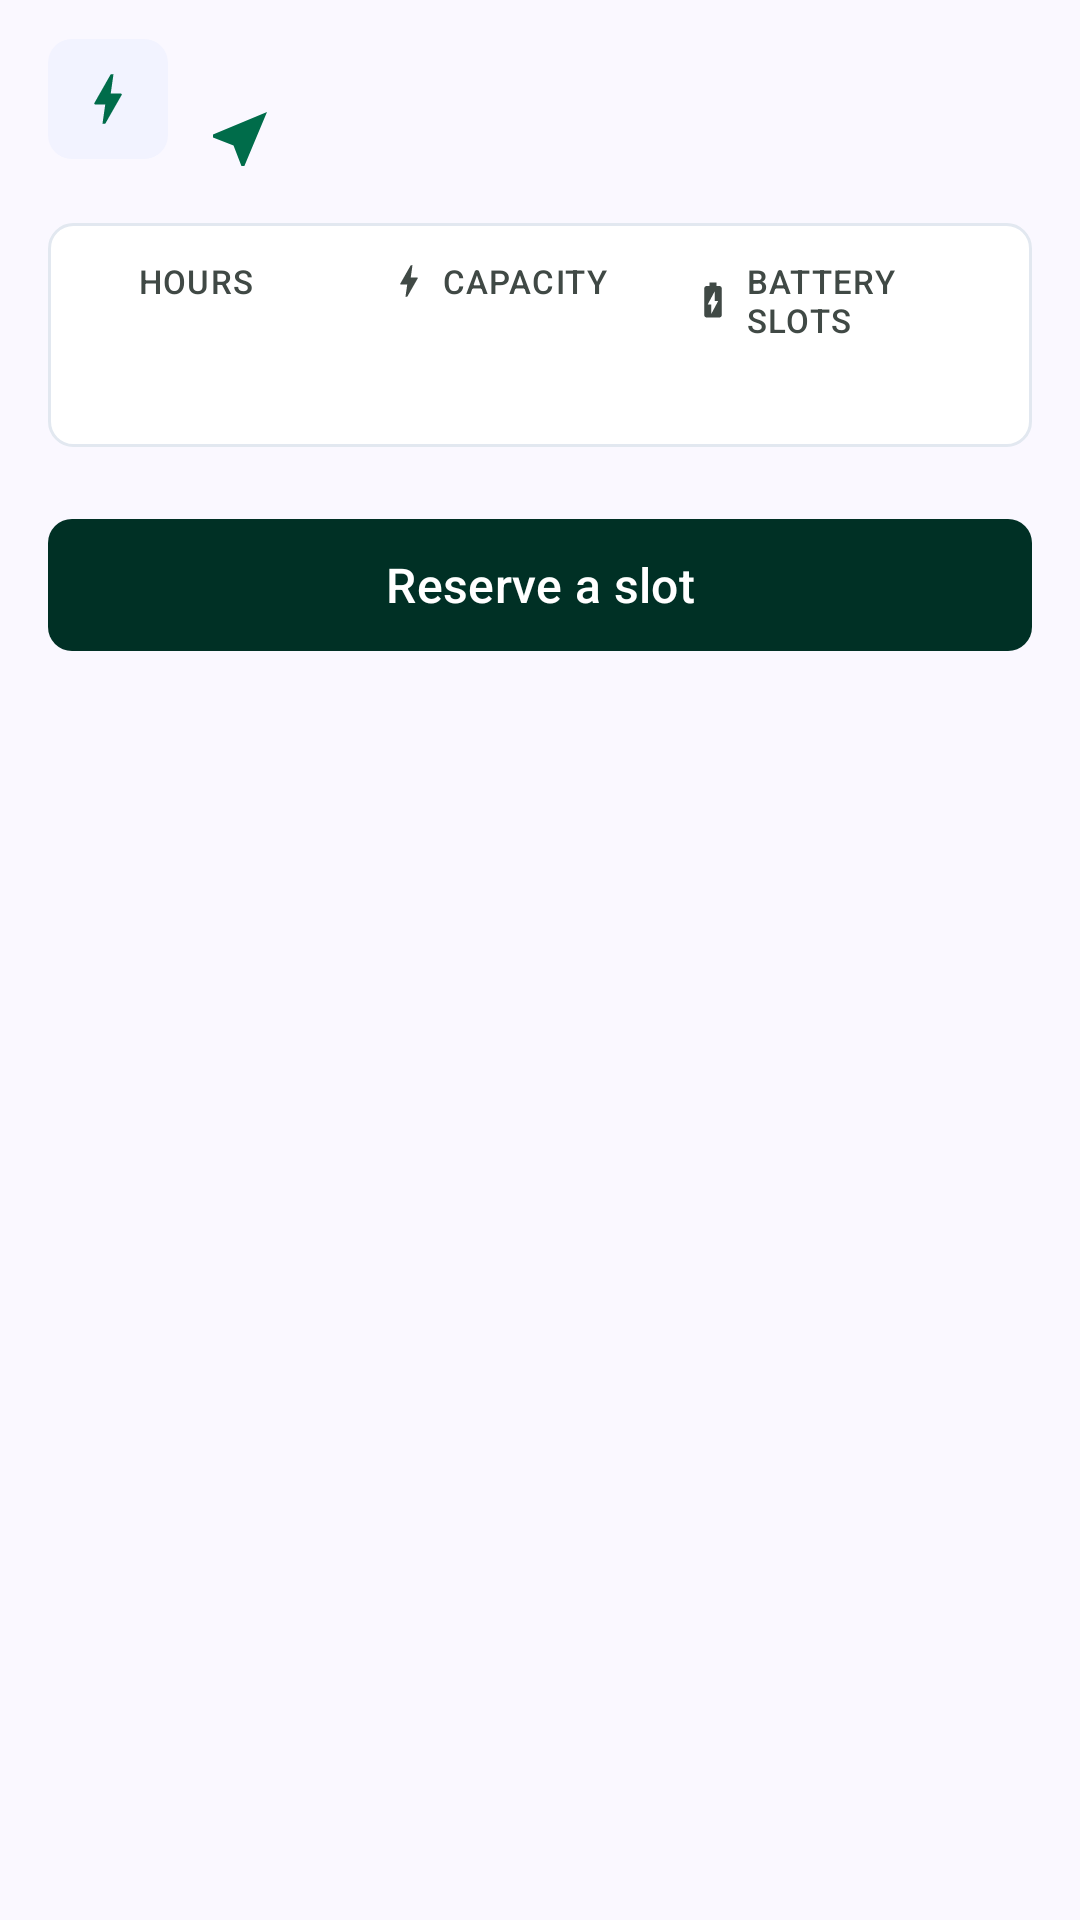

Where to tap for icons on this 1080px x 1920px app screen, as [x,y]:
bolt: [108,99], [409,281]
